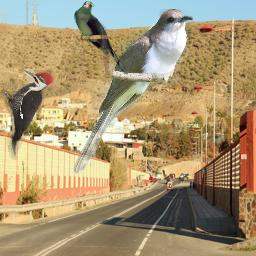Cuckoo: (71, 9, 193, 175), (74, 1, 132, 75)
Woodpecker: (0, 69, 55, 160)
